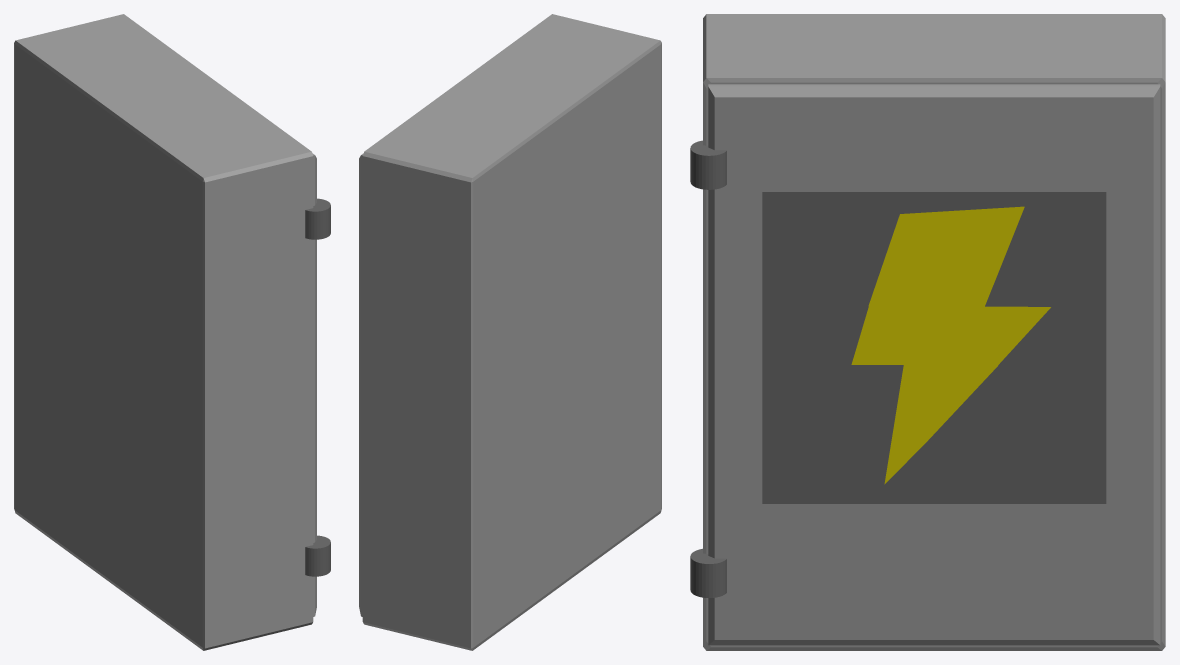
The model's file is fusebox.fbx.
3 renders of one model, left to right at view 1: azimuth 30°, elevation 25°; view 2: azimuth 150°, elevation 25°; view 3: azimuth 270°, elevation 25°, orthographic. The views are drawn at different scales.
Parts seen in each view (by area): view 1: Cube, Plane.002; view 2: Cube, Plane.002; view 3: Plane.002, Cube.
Boxes of the visible parts, left/top/right/bottom form: Cube: left=14, top=14, right=313, bottom=650; Plane.002: left=305, top=153, right=330, bottom=616; Cube: left=362, top=14, right=661, bottom=650; Plane.002: left=359, top=153, right=363, bottom=616; Plane.002: left=690, top=84, right=1160, bottom=645; Cube: left=703, top=14, right=1165, bottom=650.
Size of the model in its own units: 340 by 1208 by 908.
